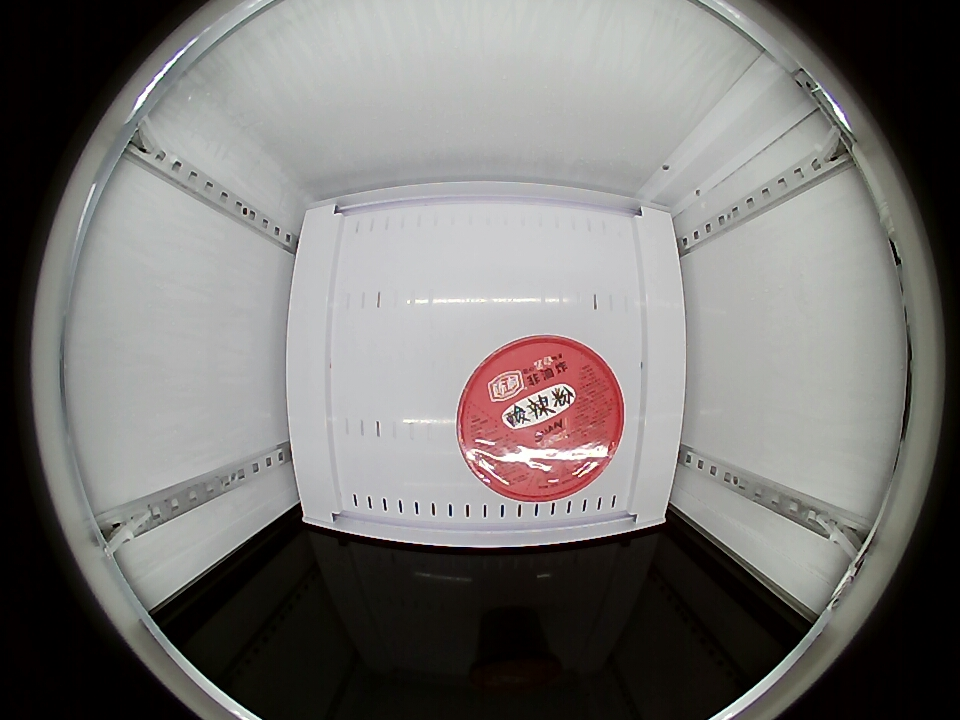suanlafen: (456, 335, 625, 501)
